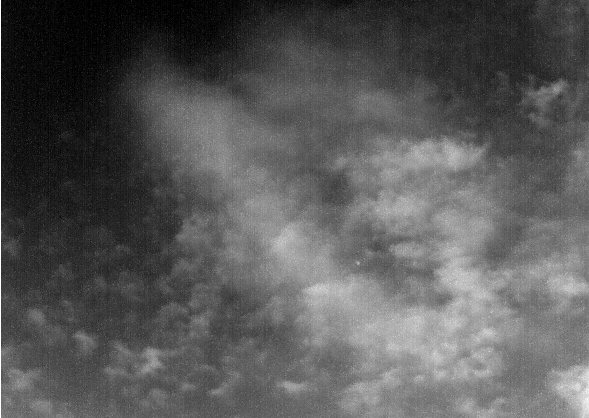dim target: (355, 260, 361, 266)
